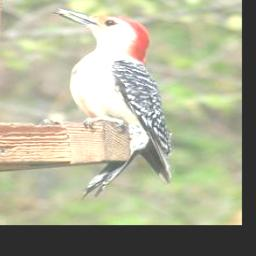Woodpecker: (49, 7, 171, 200)
